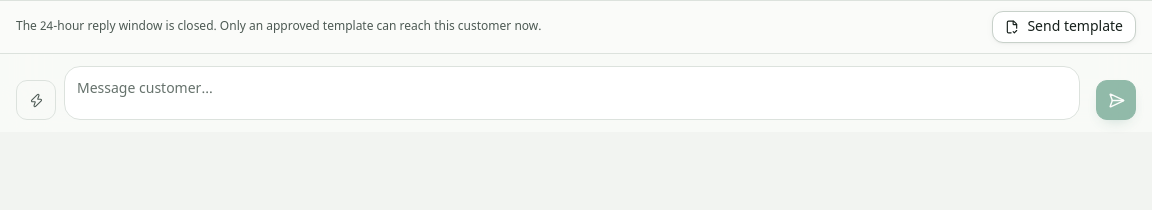
Test: Composer send-template fallback › shows the database refusal rather than a success message
Click the button "Send template" at (1064, 27), box [992,11,1136,43]
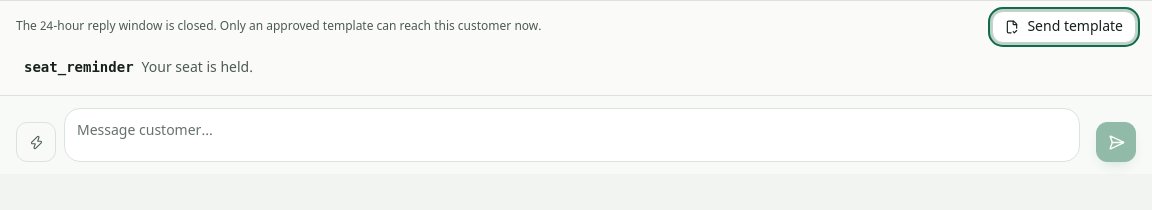
Click the text "seat_reminder" at (79, 67), box [24,59,134,75]
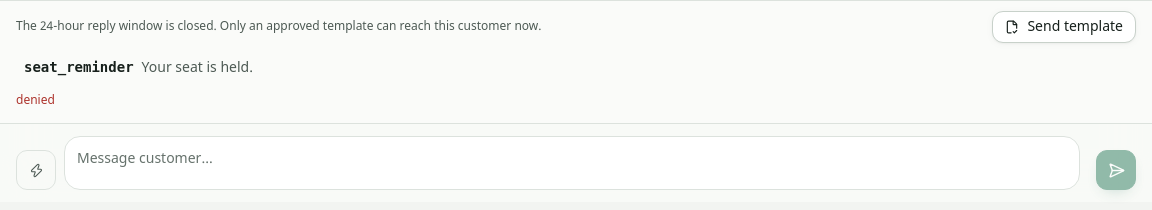
Check: the message reads "denied", box [16,93,55,109]
